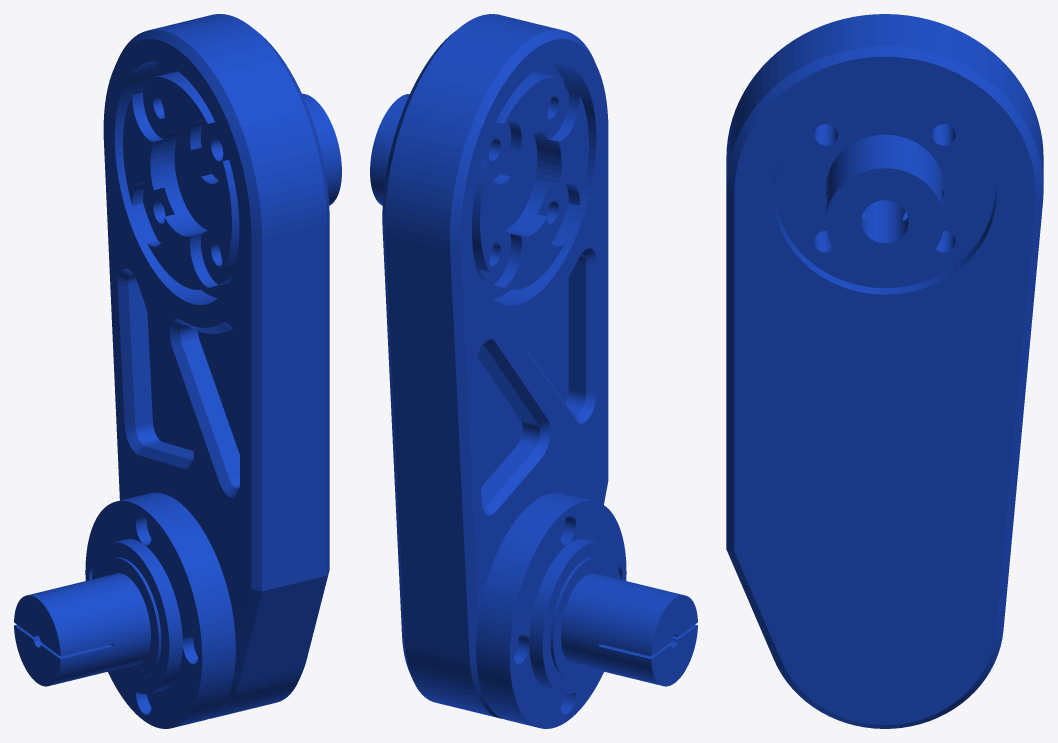
The model's file is lap-rf.obj.
3 views of the same model, side by side, from view 1: azimuth 30°, elevation 25°; view 2: azimuth 150°, elevation 25°; view 3: azimuth 270°, elevation 25° (orthographic).
Visible parts, largest first — view 1: \u5927\u817f-\u53f3\u524d, \u5927\u817f-\u5c0f\u817f\u8fde\u63a5\u8f74-\u53f3\u524d, \u7535\u673a\u8f93\u51fa\u6cd5\u5170-\u53f3\u524d; view 2: \u5927\u817f-\u53f3\u524d, \u5927\u817f-\u5c0f\u817f\u8fde\u63a5\u8f74-\u53f3\u524d, \u7535\u673a\u8f93\u51fa\u6cd5\u5170-\u53f3\u524d; view 3: \u5927\u817f-\u53f3\u524d, \u7535\u673a\u8f93\u51fa\u6cd5\u5170-\u53f3\u524d.
Boxes of the visible parts, left/top/right/bottom form: \u5927\u817f-\u53f3\u524d: left=103, top=14, right=329, bottom=718; \u5927\u817f-\u5c0f\u817f\u8fde\u63a5\u8f74-\u53f3\u524d: left=14, top=492, right=235, bottom=728; \u7535\u673a\u8f93\u51fa\u6cd5\u5170-\u53f3\u524d: left=302, top=93, right=341, bottom=205; \u5927\u817f-\u53f3\u524d: left=382, top=14, right=608, bottom=718; \u5927\u817f-\u5c0f\u817f\u8fde\u63a5\u8f74-\u53f3\u524d: left=476, top=492, right=697, bottom=728; \u7535\u673a\u8f93\u51fa\u6cd5\u5170-\u53f3\u524d: left=370, top=94, right=409, bottom=205; \u5927\u817f-\u53f3\u524d: left=726, top=14, right=1043, bottom=728; \u7535\u673a\u8f93\u51fa\u6cd5\u5170-\u53f3\u524d: left=774, top=92, right=995, bottom=287.
Bounding box in the file's own units: 40.9 × 95 × 40.
